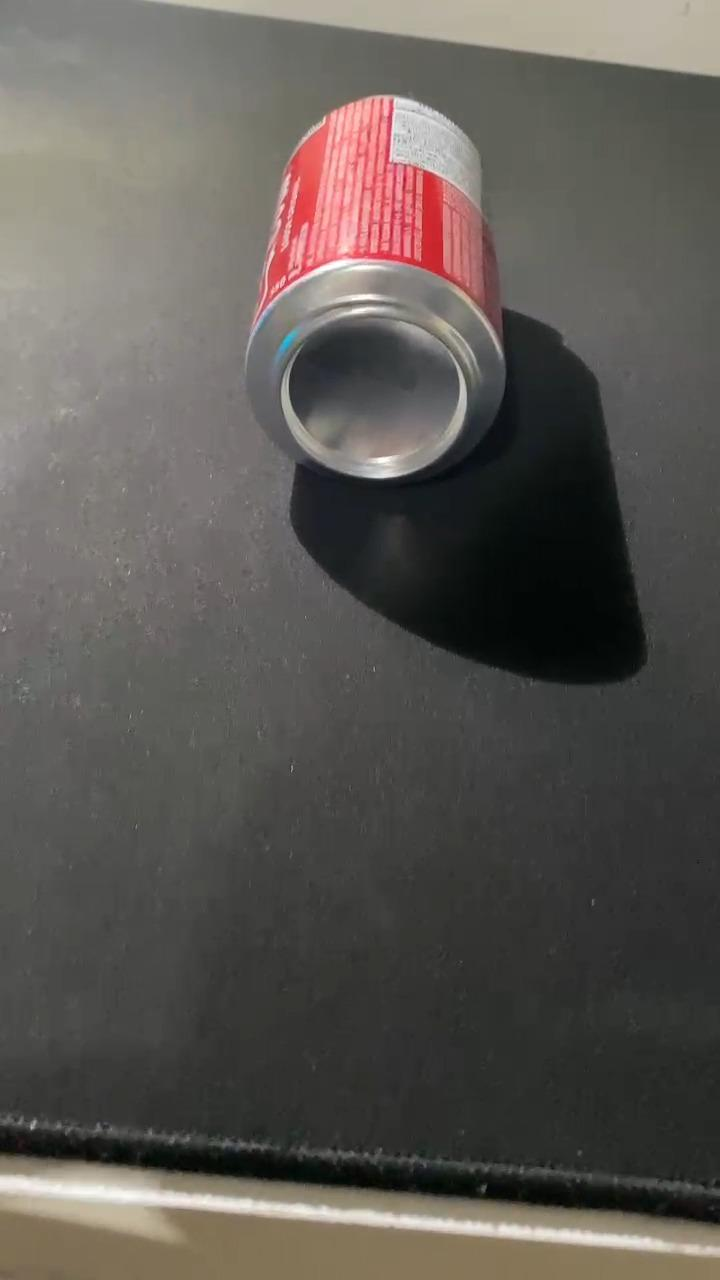coke: (243, 98, 508, 482)
